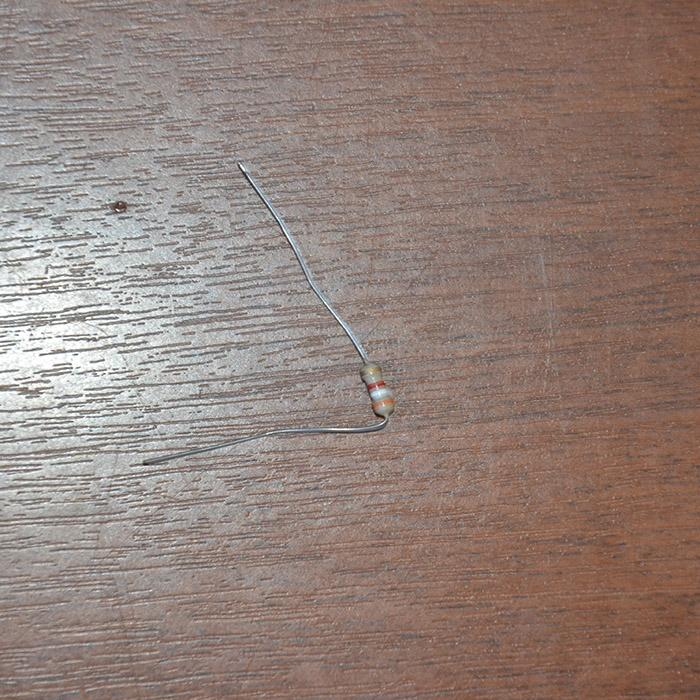resistor: (358, 360, 393, 417)
